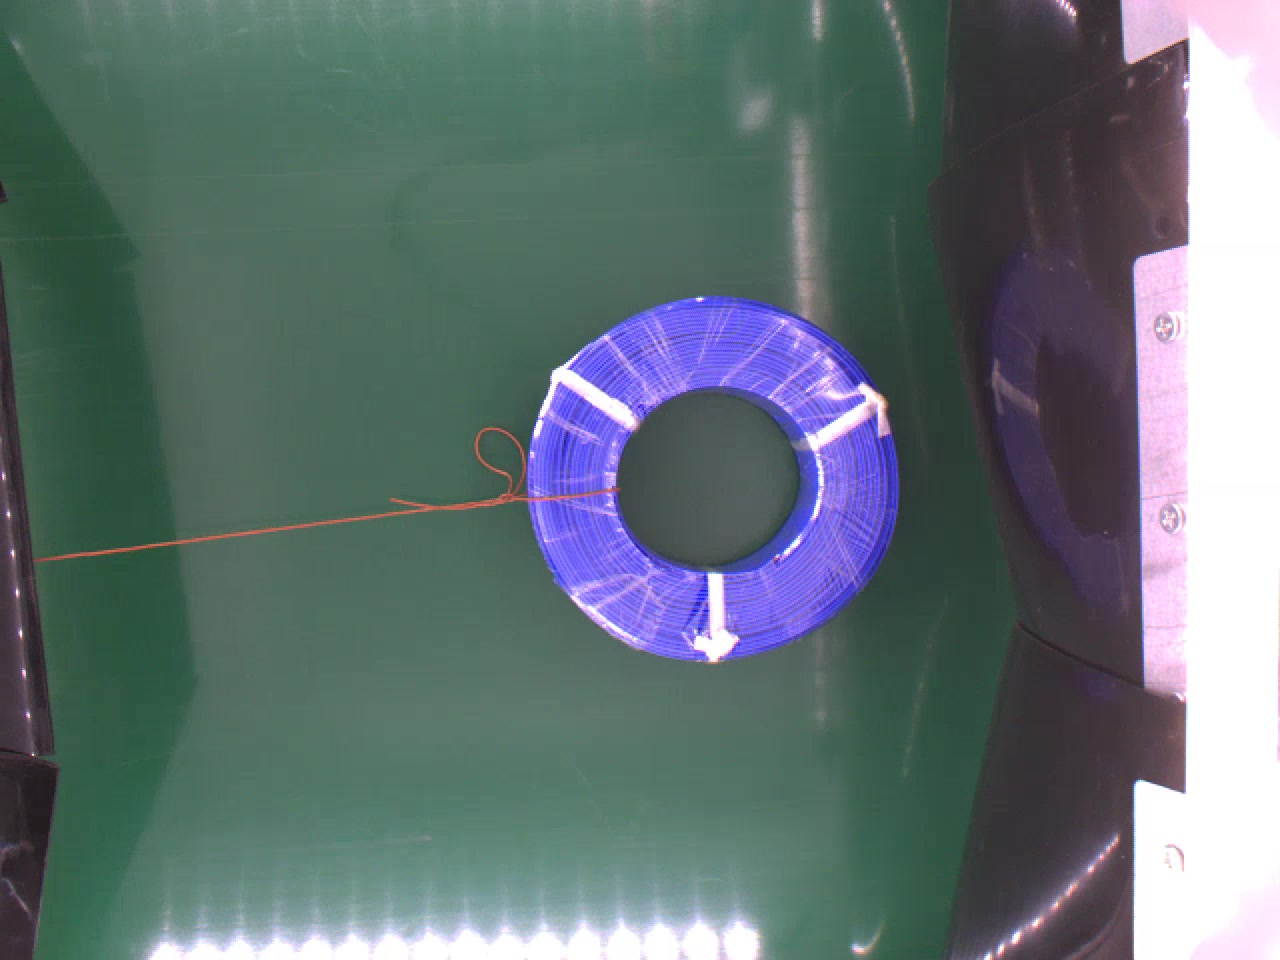blue: (526, 294, 898, 662)
